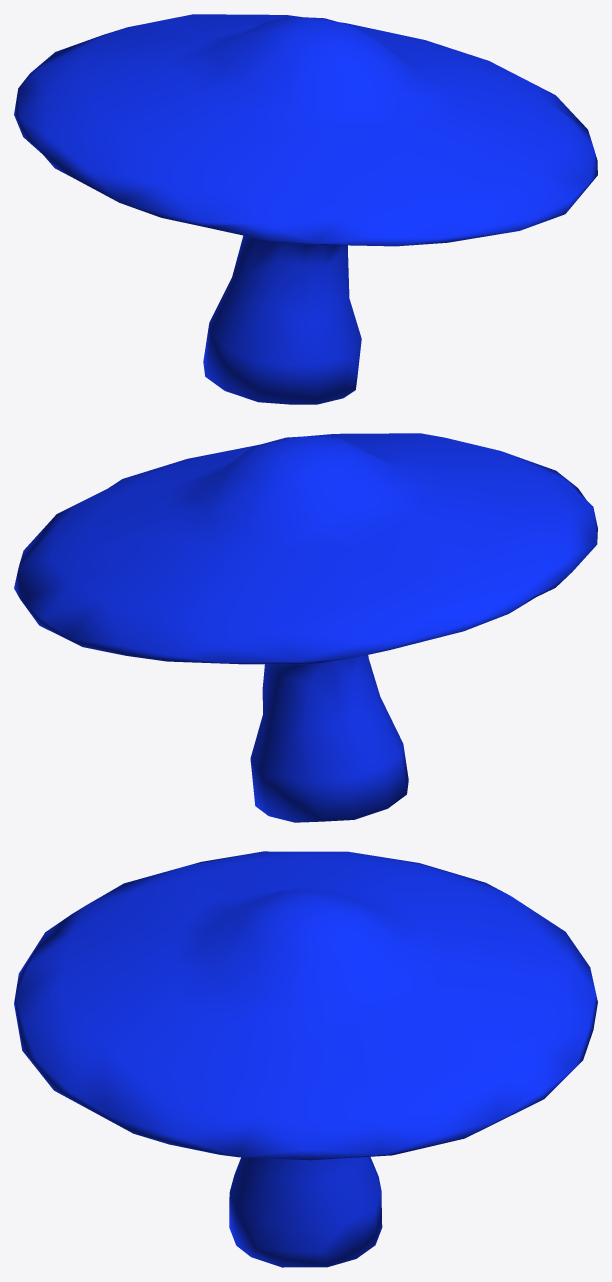
Rendered from Blue+Mushroom.obj.
3 renders of one model, top to bottom at view 1: azimuth 30°, elevation 25°; view 2: azimuth 150°, elevation 25°; view 3: azimuth 270°, elevation 25°, orthographic.
Parts seen in each view (by area): view 1: Mesh_0; view 2: Mesh_0; view 3: Mesh_0.
Boxes of the visible parts, bbox=[...] form: Mesh_0: bbox=[14, 14, 597, 404]; Mesh_0: bbox=[14, 433, 597, 822]; Mesh_0: bbox=[14, 851, 597, 1267].
Bounding box in the file's own units: 1.97 × 1.31 × 2.
